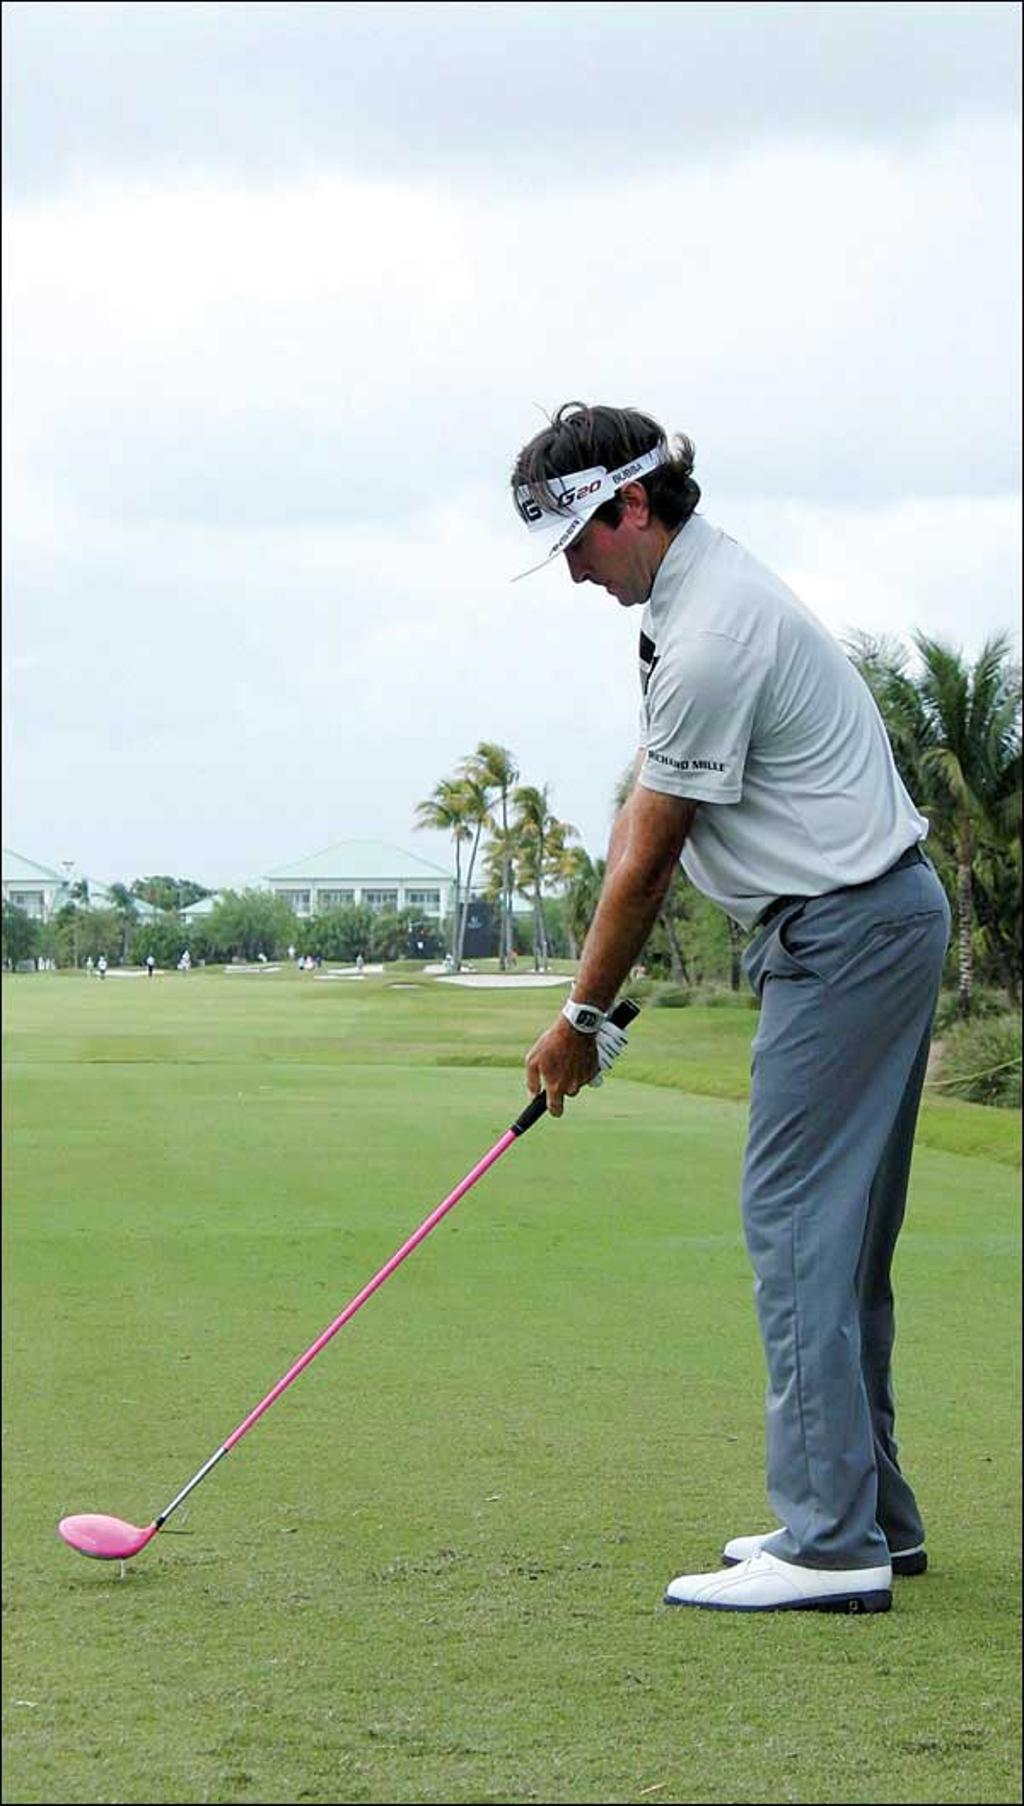face: (565, 484, 650, 615)
